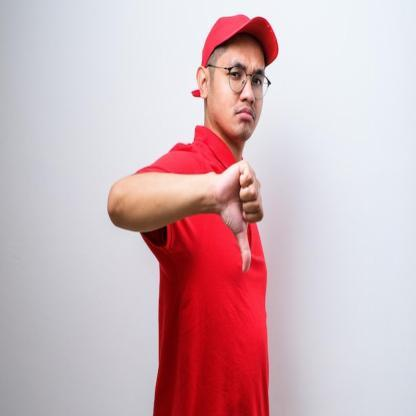thumb_down: (218, 156, 264, 275)
